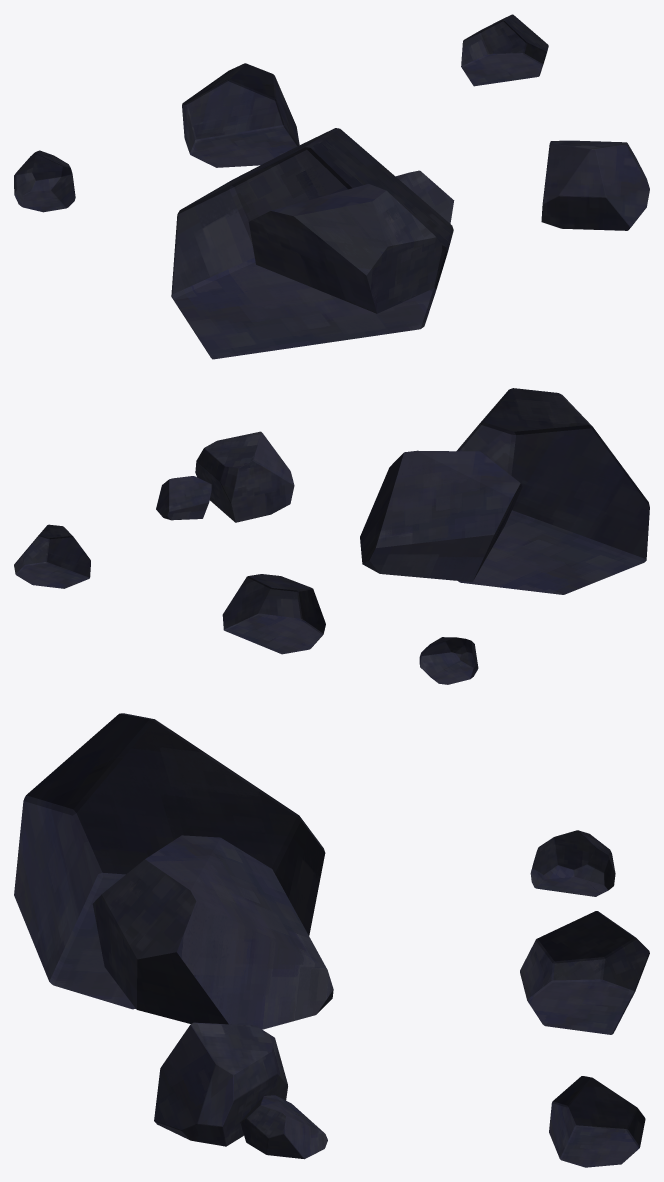
File: Pebble3.fbx
The picture shows the model from 3 angles, top to bottom: view 1: azimuth 30°, elevation 25°; view 2: azimuth 150°, elevation 25°; view 3: azimuth 270°, elevation 25°; orthographic projection. The views are drawn at different scales.
Visible parts, largest first — view 1: Cube.017, Cube.018, Cube.019, Cube.020, Cube.023, Cube.022; view 2: Cube.017, Cube.018, Cube.020, Cube.019, Cube.023, Cube.022, Cube.021; view 3: Cube.017, Cube.018, Cube.020, Cube.019, Cube.023, Cube.022, Cube.021.
Boxes of the visible parts, x1,y1,x2,y2 form: Cube.017: (171, 128, 453, 359); Cube.018: (248, 170, 454, 313); Cube.019: (182, 63, 299, 167); Cube.020: (541, 140, 649, 230); Cube.023: (461, 14, 548, 86); Cube.022: (14, 150, 75, 212); Cube.017: (456, 388, 649, 594); Cube.018: (360, 450, 522, 581); Cube.020: (195, 431, 294, 522); Cube.019: (222, 574, 325, 654); Cube.023: (14, 524, 90, 588); Cube.022: (419, 637, 478, 684); Cube.021: (156, 476, 211, 520); Cube.017: (14, 713, 325, 1009); Cube.018: (92, 835, 333, 1029); Cube.020: (154, 1022, 287, 1146); Cube.019: (520, 911, 649, 1034); Cube.023: (549, 1076, 645, 1167); Cube.022: (530, 830, 615, 896); Cube.021: (240, 1095, 327, 1159).
Bounding box in the file's own units: 138 × 45.14 × 119.
